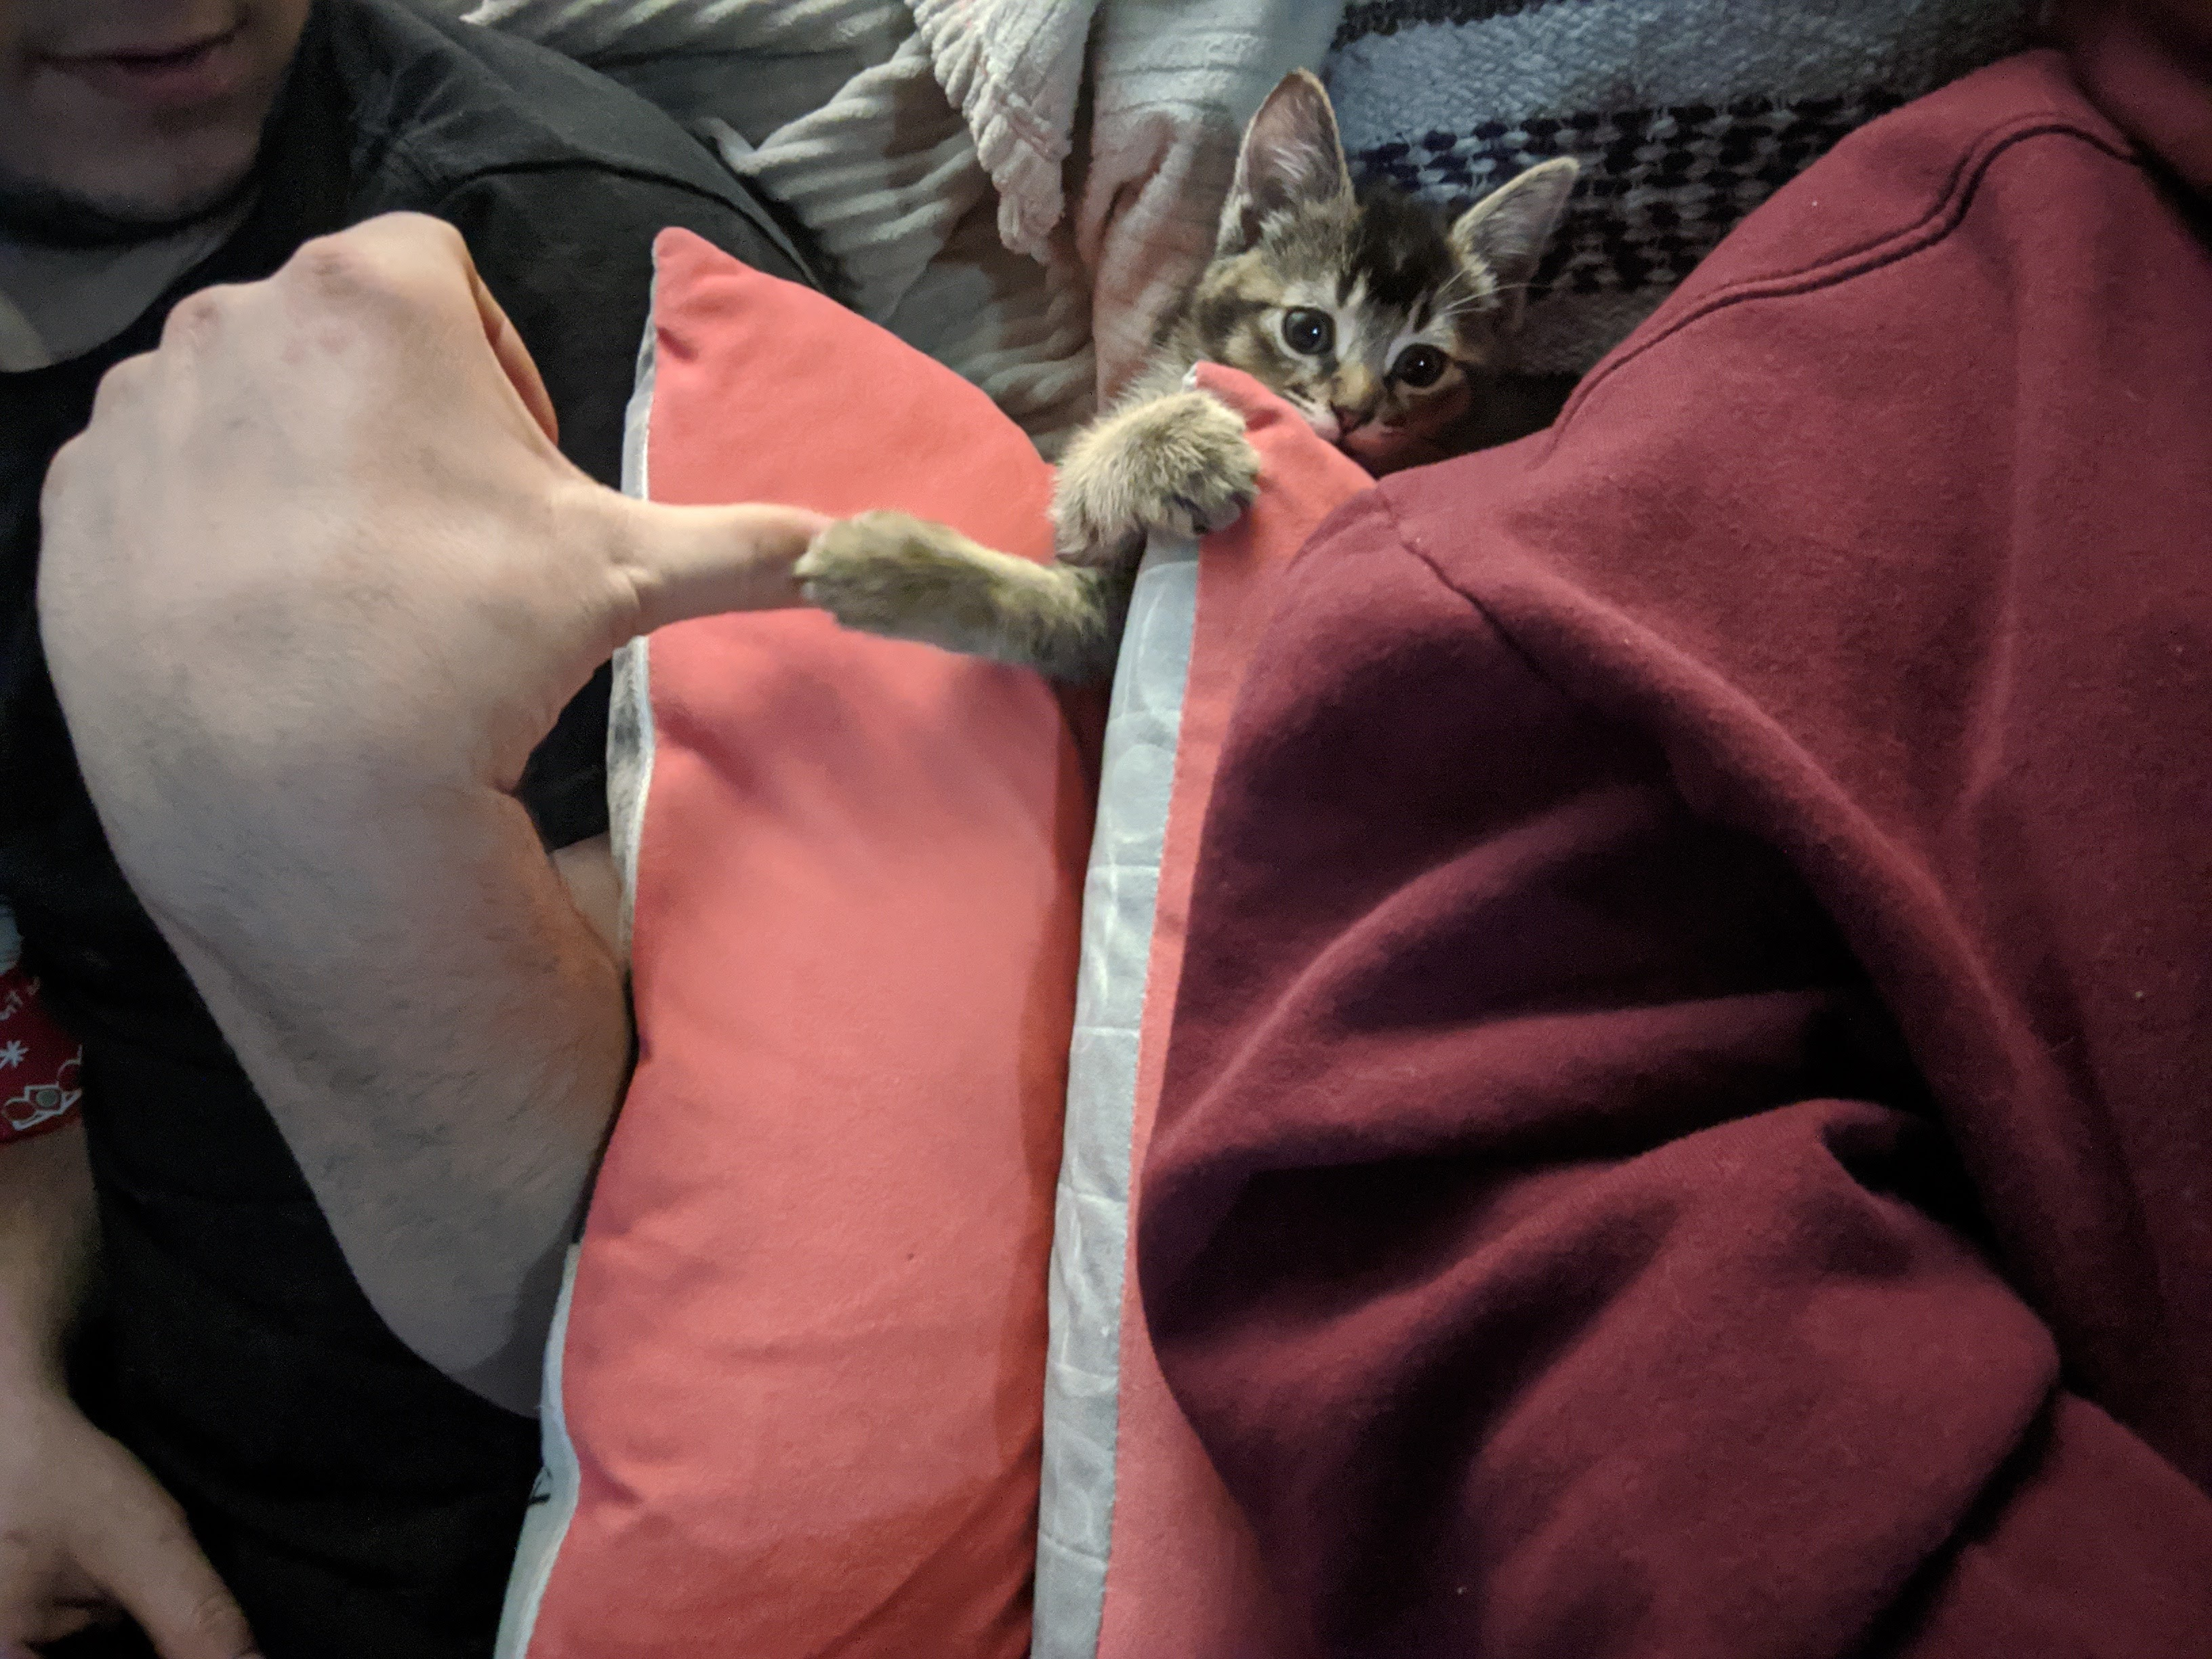luna: (794, 68, 1587, 678)
